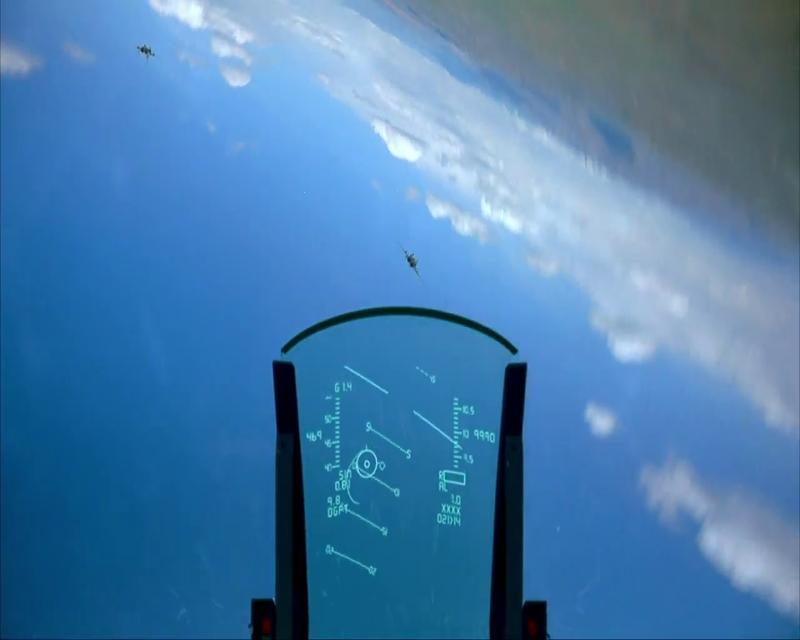UAV: (401, 243, 422, 277), (135, 42, 156, 62)
